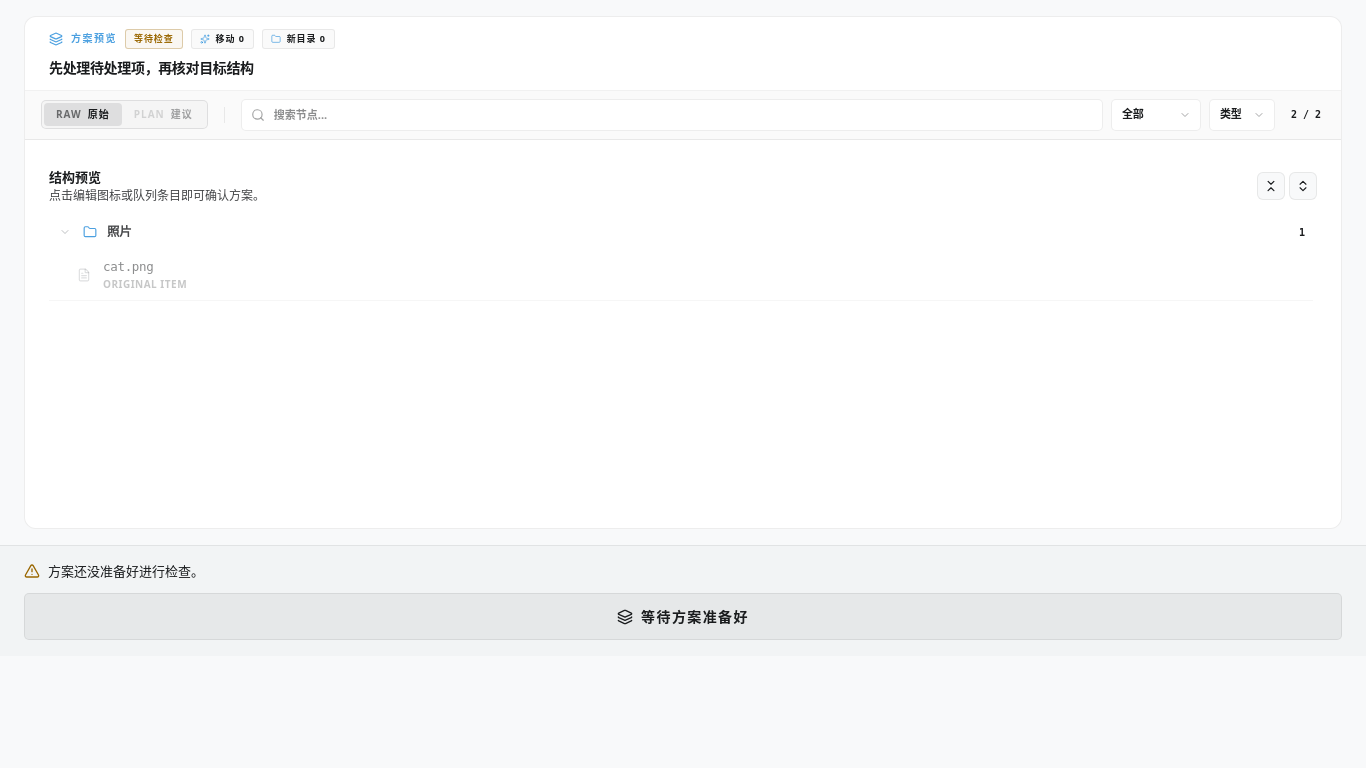
it: PreviewPanel › shows after-tree empty state when the plan is still generating
Click the button "PLAN 建议" at (163, 114), box [122,103,205,126]
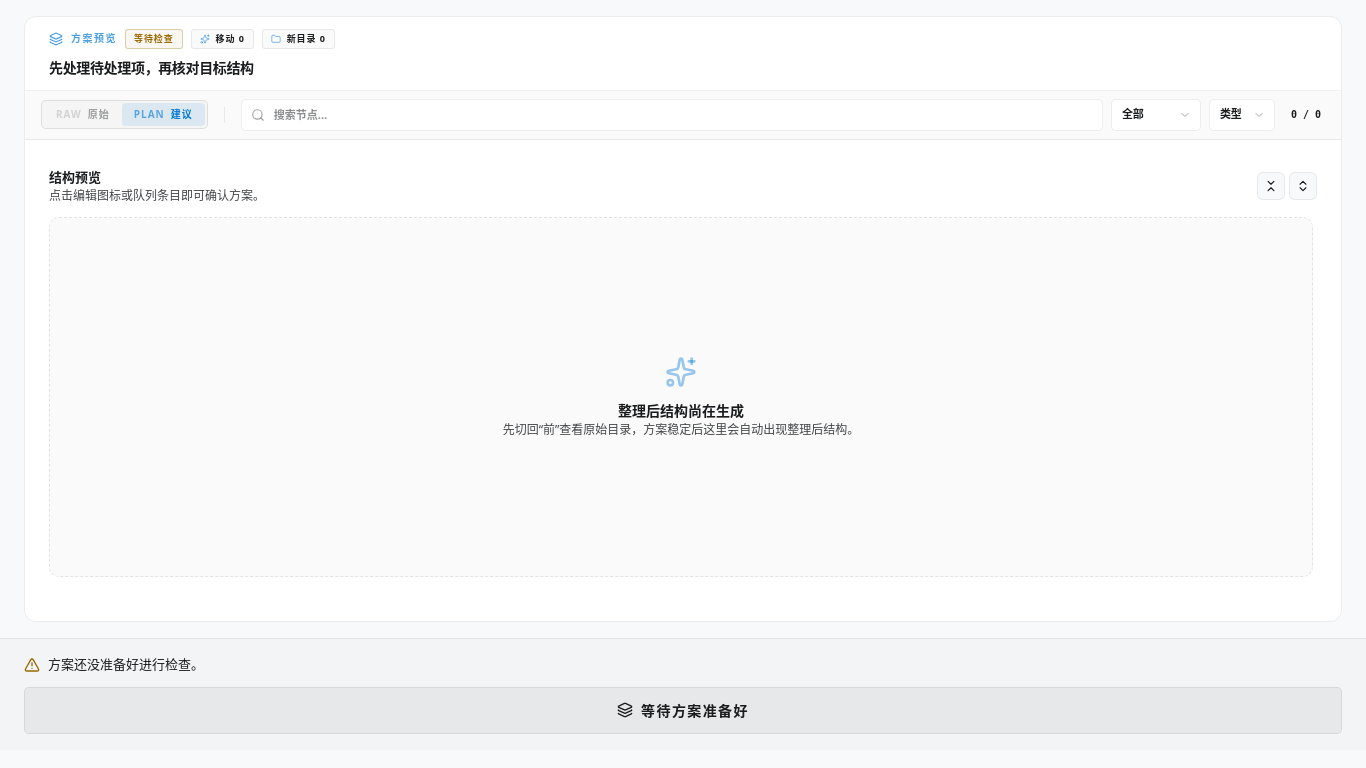
Result: the text "整理后结构尚在生成" is shown at [618,400,744,420]
Result: the text "先切回“前”查看原始目录，方案稳定后这里会自动出现整理后结构。" is shown at [503,420,859,438]
